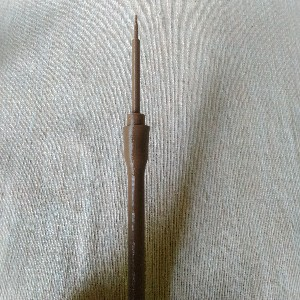solder: (120, 12, 150, 300)
